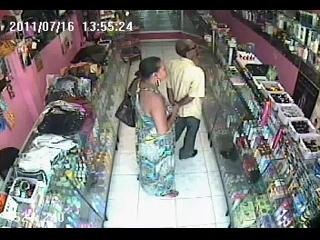Normal: (132, 56, 180, 199), (166, 39, 206, 160), (114, 76, 140, 128)
